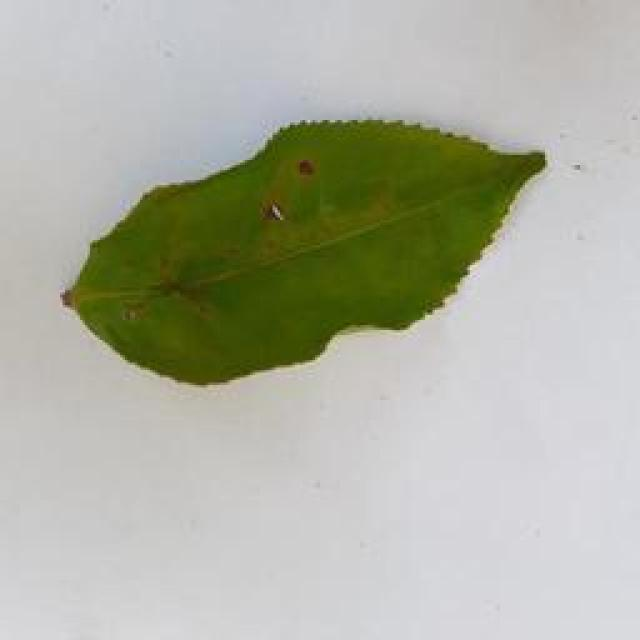Helopeltis: (15, 109, 553, 403)
